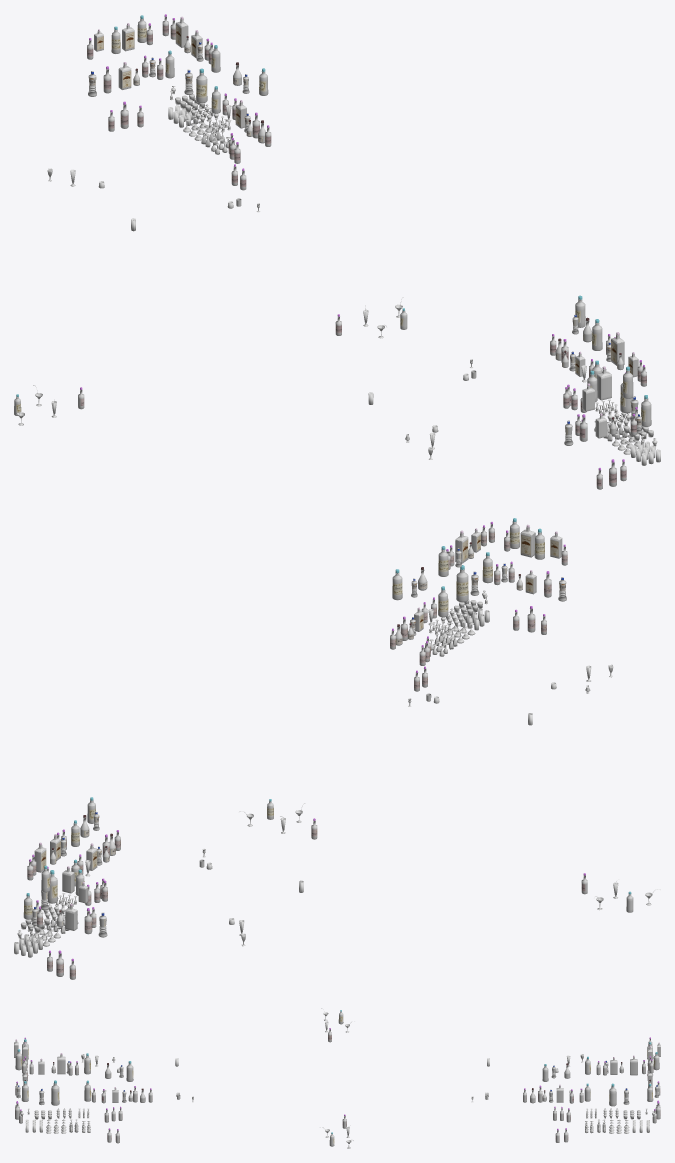
The model's file is GlassesBar.fbx.
3 renders of one model, top to bottom at view 1: azimuth 30°, elevation 25°; view 2: azimuth 150°, elevation 25°; view 3: azimuth 270°, elevation 25°, orthographic. The views are drawn at different scales.
Bounding box in the file's own units: 661 × 217 × 1334.
3 materials, 2 textured.
